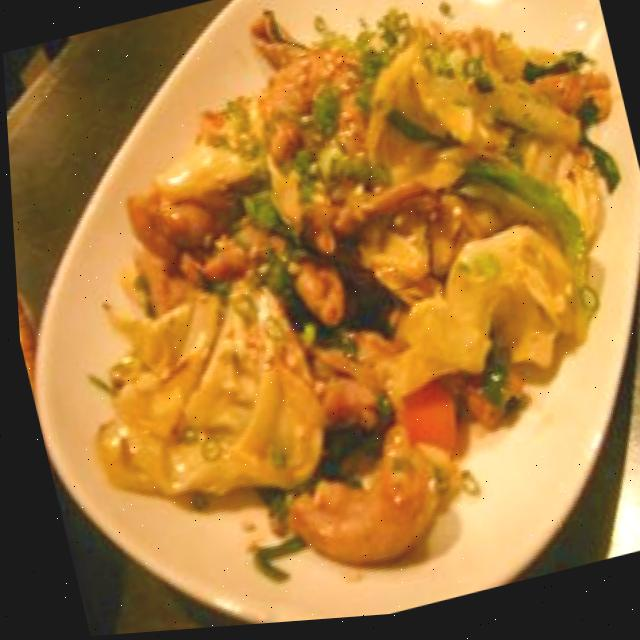蔬菜料理: (12, 0, 640, 639)
